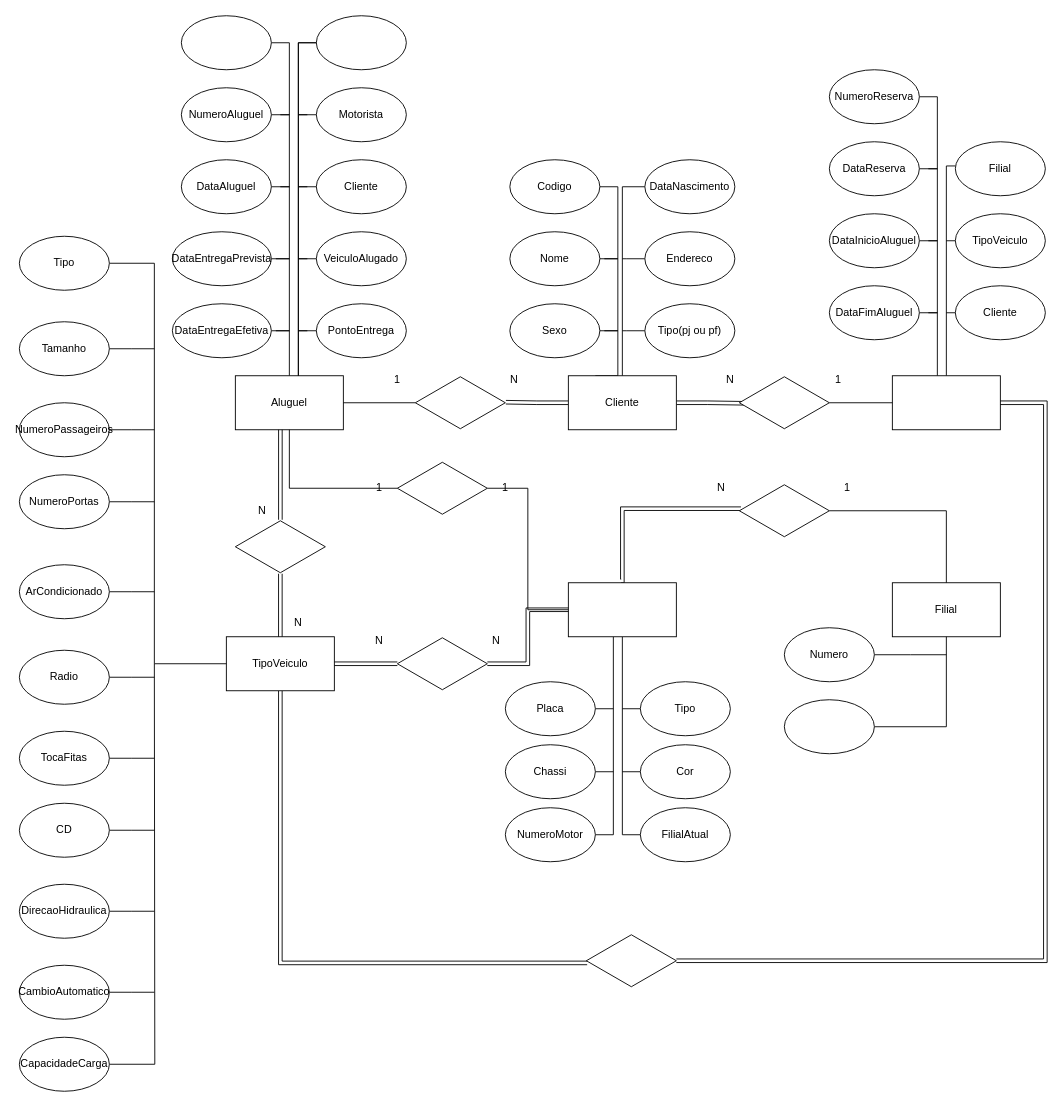
Some shapes in this 1063 by 1107 pixel diagram are drawn without their labels. Each missing label, with the box of its shape:
Alguel é de TipoVeiculo: (234, 519, 325, 574)
Cliente faz aluguel: (414, 375, 505, 430)
Cliente faz reserva: (738, 375, 829, 430)
DataVencimento Habilitacao: (315, 15, 406, 70)
Localizacao: (783, 699, 874, 754)
Numero Habilitacao: (180, 15, 271, 70)
Reserva: (891, 375, 1000, 430)
Reserva é de TipoVeiculo: (585, 933, 676, 988)
TipoVeiculo possui veiculo: (396, 636, 487, 691)
Veiculo: (567, 582, 676, 637)
Veiculo pertence a filial: (738, 483, 829, 538)
Veiculo é alugado em aluguel: (396, 460, 487, 515)
